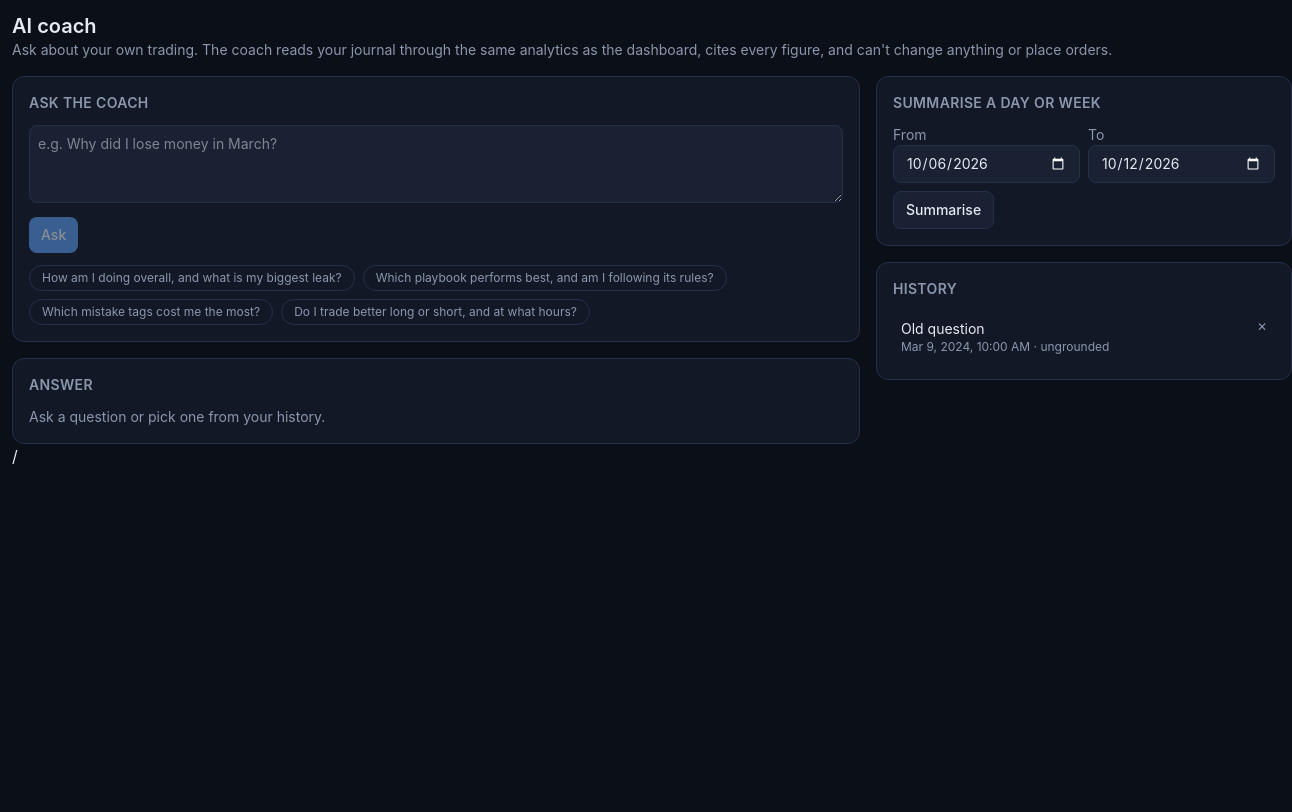
Scenario: AI coach page › warns loudly when figures couldn't be traced
Click the button "Old question Mar 9, 2024, 10:00 AM · ungrounded" at (1005, 337), box [901,319,1109,355]
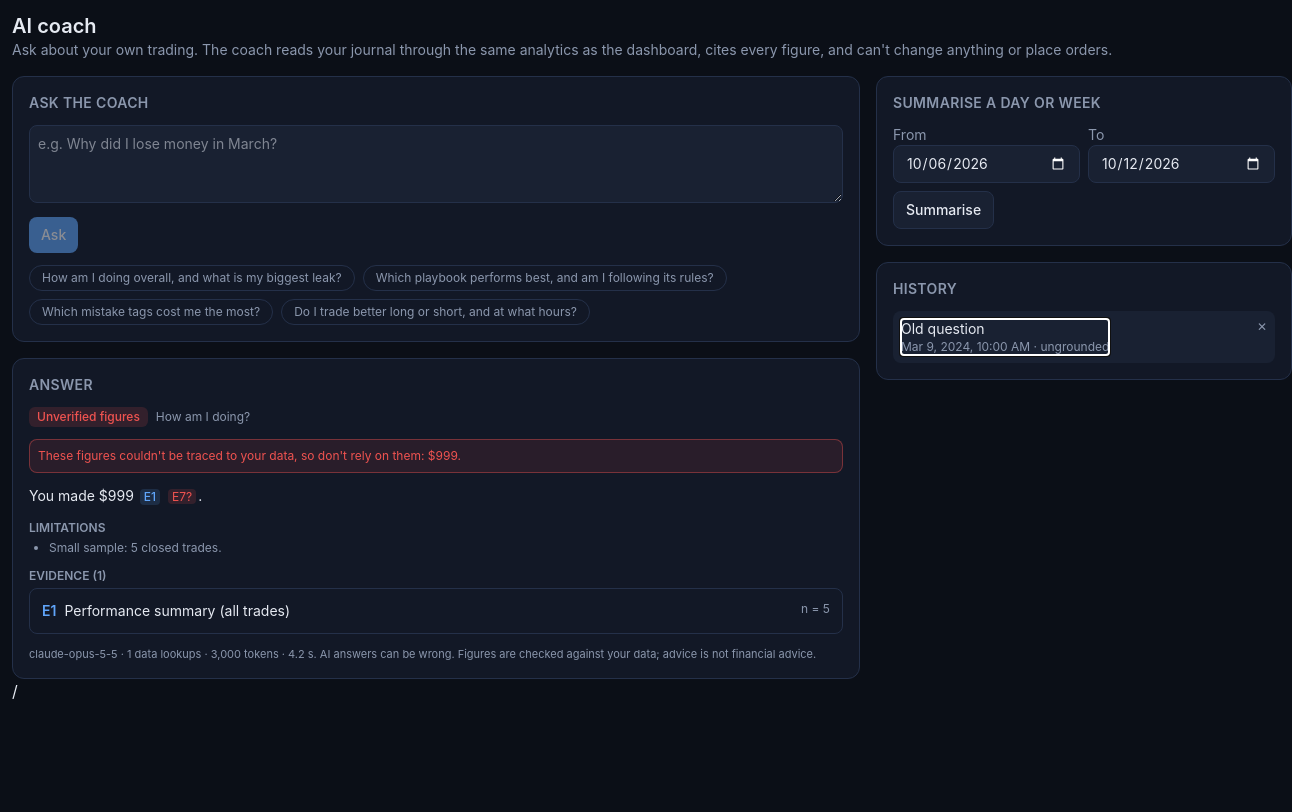
expect the message shows "couldn't be traced to your data, so don't rely on them: $999": met, box [29,439,843,473]
expect the element with test id "coach-answer" shows "E7?": met, box [29,407,843,662]
